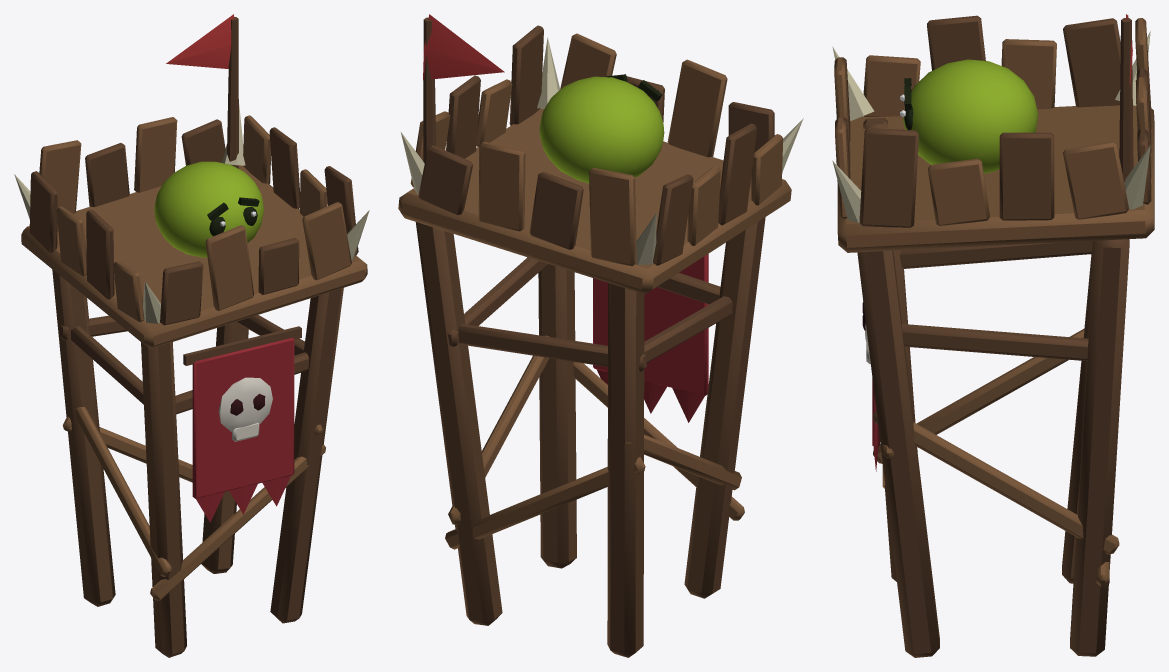
The model's file is p_enemy_tower.glb.
3 renders of one model, left to right at view 1: azimuth 30°, elevation 25°; view 2: azimuth 150°, elevation 25°; view 3: azimuth 270°, elevation 25°, orthographic. The views are drawn at different scales.
Visible parts, largest first — view 1: body; view 2: body; view 3: body.
Boxes of the visible parts, bbox=[...] form: body: bbox=[14, 14, 369, 657]; body: bbox=[398, 14, 803, 657]; body: bbox=[832, 14, 1154, 657].
Bounding box in the file's own units: 2.97 × 6.66 × 2.95.
